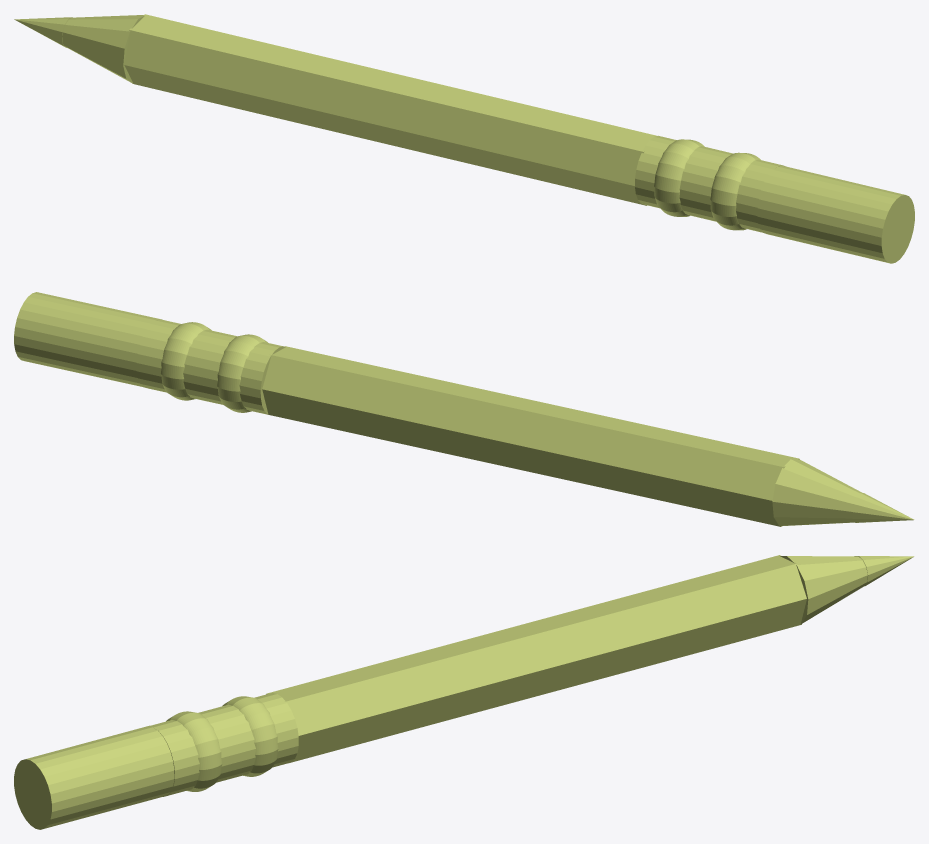
The model's file is pencil.dae.
3 views of the same model, one above another, from view 1: azimuth 30°, elevation 25°; view 2: azimuth 210°, elevation 25°; view 3: azimuth 270°, elevation 25° (orthographic). The views are drawn at different scales.
Parts seen in each view (by area): view 1: pencil_001; view 2: pencil_001; view 3: pencil_001.
Part boxes in pixels (<box>): pencil_001: <box>14,14,914,263</box>; pencil_001: <box>14,292,914,526</box>; pencil_001: <box>14,555,914,829</box>.
Bounding box in the file's own units: 0.6237 × 0.9783 × 0.0901.
